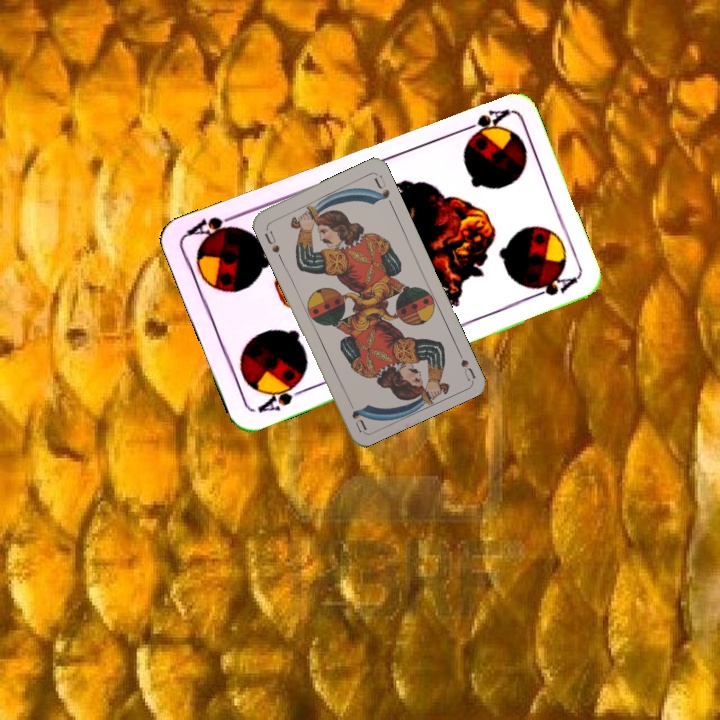SA: (253, 376, 309, 416), (454, 104, 511, 139)
SU: (452, 343, 478, 382), (260, 227, 282, 256)
